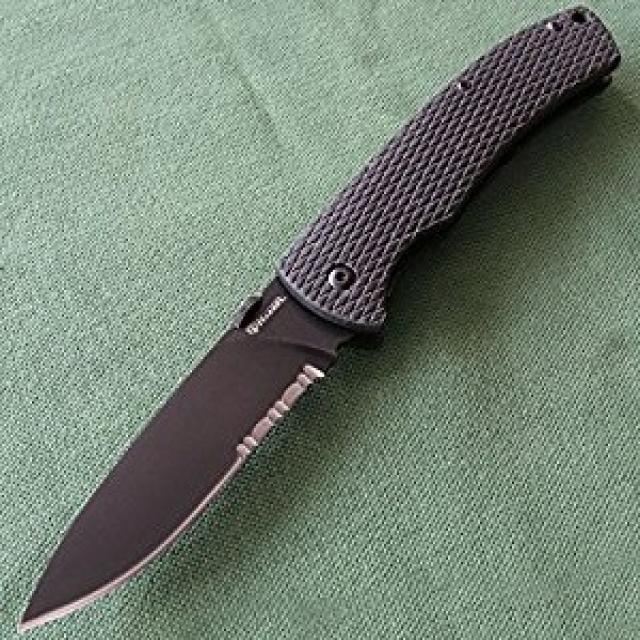knife: (16, 1, 622, 640)
